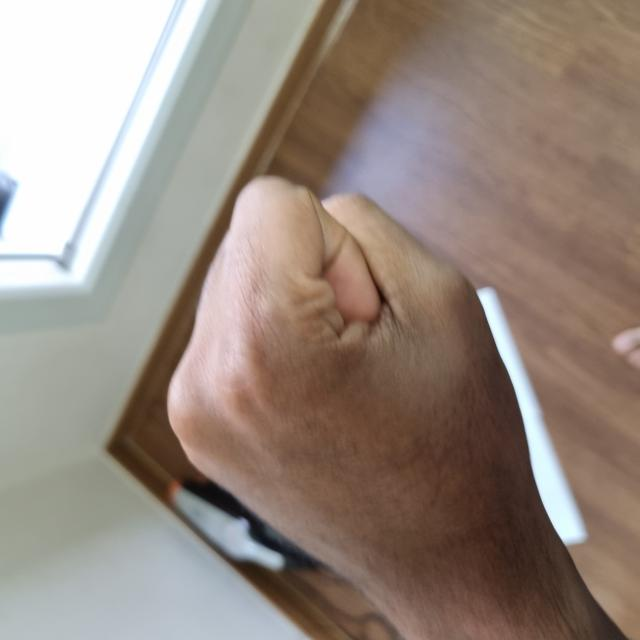Rock: (34, 170, 457, 546)
